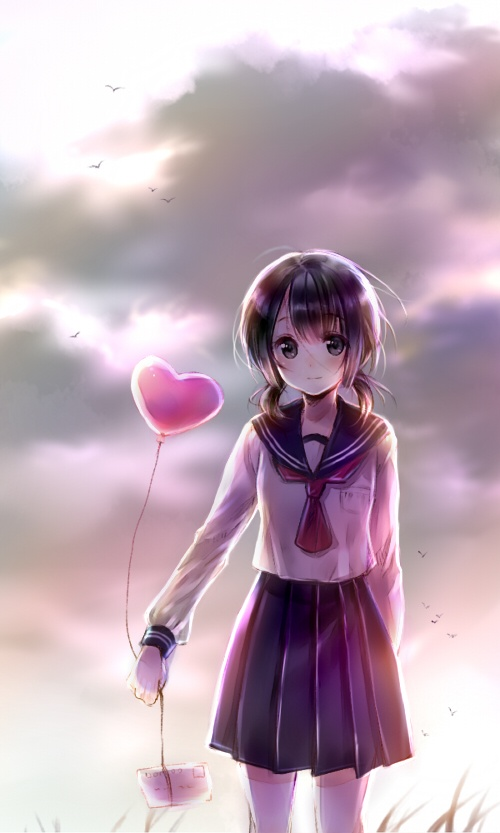纸片人正脸: (230, 243, 396, 405)
